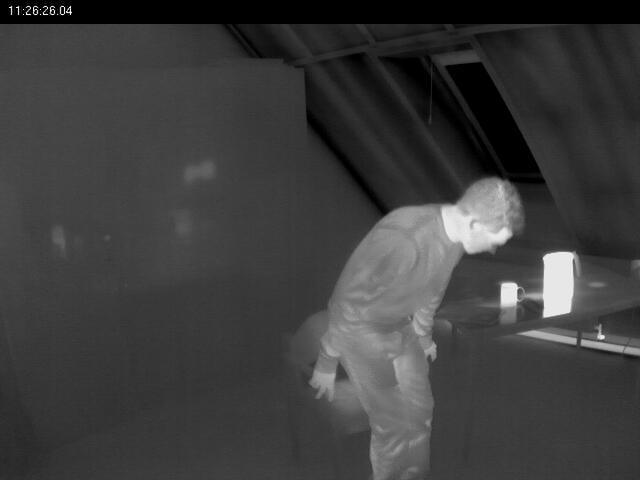person: (306, 162, 520, 480)
